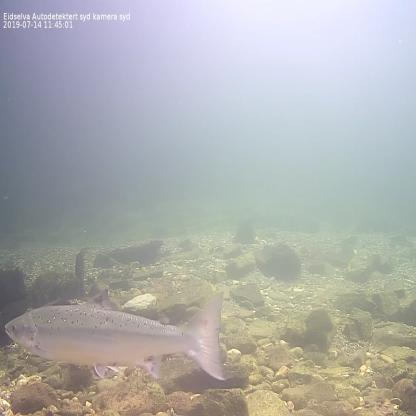salmon: (3, 286, 228, 382)
